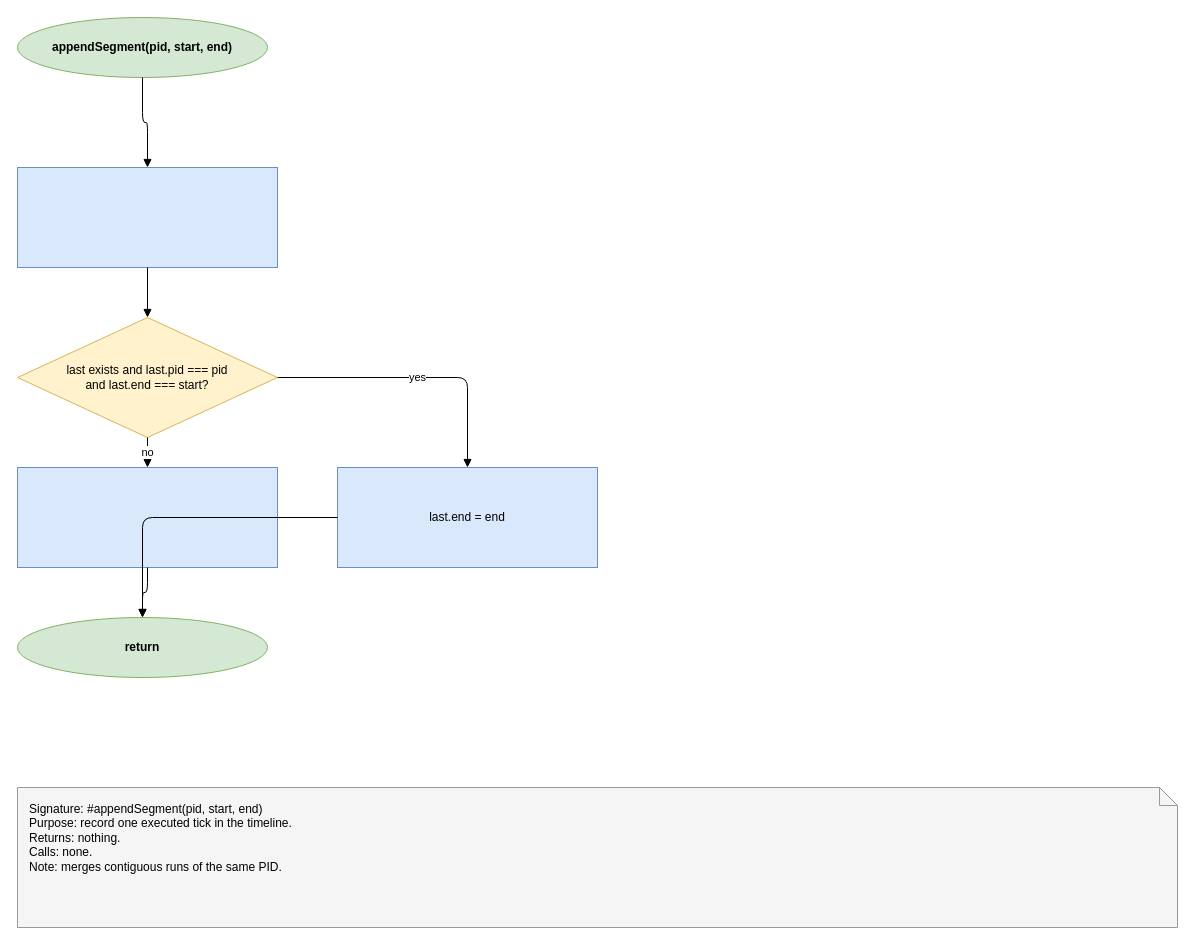
Image size: 1195x945. Some labels were removed from this diagram. The shapes that lost their labels are listed below. From the top down, each one's centre as x and y in pixels, then its label:
At (x=147, y=217): "last = timeline[timeline.length - 1]".
At (x=147, y=517): "timeline.push({ pid, start, end })".
